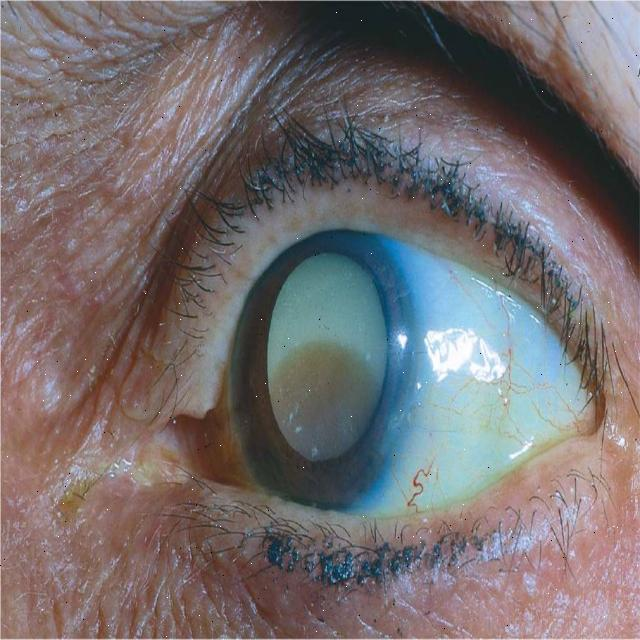Cataract: (225, 194, 420, 520)
